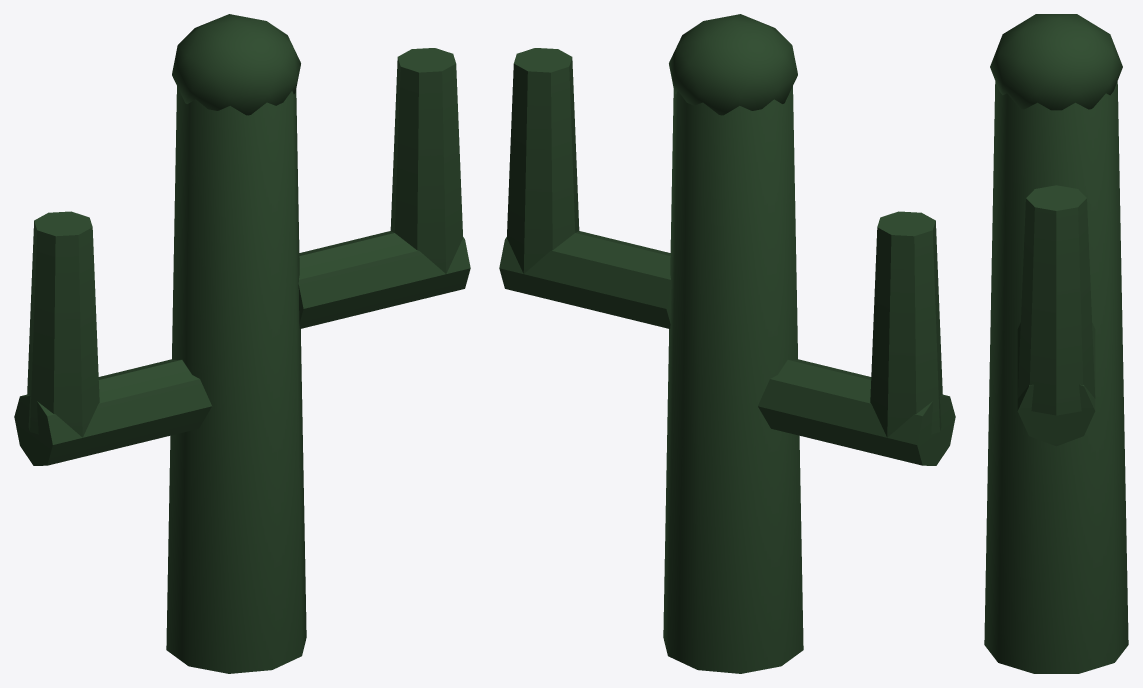
The model's file is prop_cactus.glb.
3 views of the same model, side by side, from view 1: azimuth 30°, elevation 25°; view 2: azimuth 150°, elevation 25°; view 3: azimuth 270°, elevation 25° (orthographic).
Visible parts, largest first — view 1: prop; view 2: prop; view 3: prop.
Boxes of the visible parts, <box> form: prop: <box>14,14,470,673</box>; prop: <box>499,14,955,673</box>; prop: <box>984,14,1128,673</box>.
Size of the model in its own units: 1.8 by 2.49 by 0.52.
